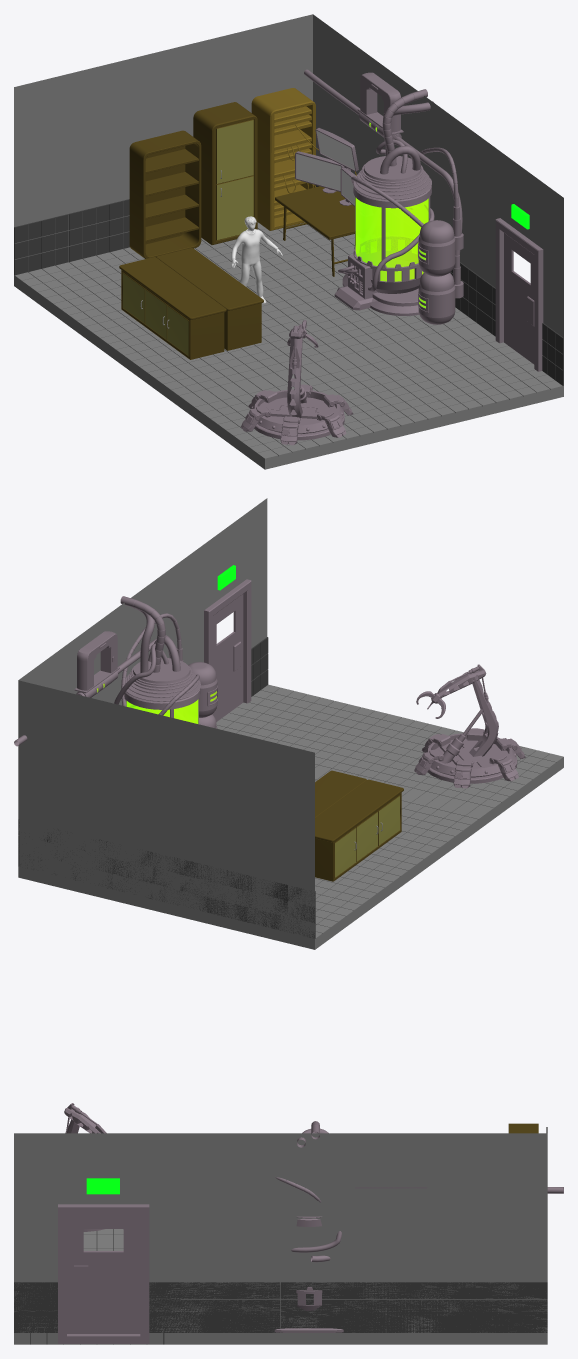
The model's file is Lab_renkli (1).fbx.
3 renders of one model, top to bottom at view 1: azimuth 30°, elevation 25°; view 2: azimuth 150°, elevation 25°; view 3: azimuth 270°, elevation 25°, orthographic. The views are drawn at different scales.
Visible parts, largest first — view 1: floor, Plane.001, Cylinder.013, Cube.016, Cube.002, Cube.015, Cube.009, floor.002, Cylinder.002, Cube.014, Cube.007, Cube.011 (+5 smaller); view 2: Plane.001, floor, Cylinder.013, Cylinder.002, Cube.015, floor.002, Cube.007, Cylinder, Cube.001, Cube.014, floor.001; view 3: Plane.001, floor.001, Cube.007, floor, Cube.001, Cylinder.013, Cylinder.002, Cube.012.
Boxes of the visible parts, <box> form: floor: <box>14,222,563,469</box>; Plane.001: <box>14,14,563,337</box>; Cylinder.013: <box>334,89,463,324</box>; Cube.016: <box>129,130,201,258</box>; Cube.002: <box>193,102,257,244</box>; Cube.015: <box>119,257,226,359</box>; Cube.009: <box>251,88,356,230</box>; floor.002: <box>14,199,129,275</box>; Cylinder.002: <box>241,320,353,445</box>; Cube.014: <box>156,248,263,350</box>; Cube.007: <box>504,233,534,364</box>; Cube.011: <box>295,128,358,206</box>; Plane.001: <box>18,498,314,938</box>; floor: <box>18,684,563,949</box>; Cylinder.013: <box>114,596,217,728</box>; Cylinder.002: <box>414,664,525,788</box>; Cube.015: <box>315,779,403,881</box>; floor.002: <box>20,829,315,938</box>; Cube.007: <box>213,594,243,721</box>; Cylinder: <box>14,631,170,746</box>; Cube.001: <box>204,579,251,714</box>; Cube.014: <box>315,770,366,817</box>; floor.001: <box>18,637,268,866</box>; Plane.001: <box>14,1133,547,1332</box>; floor.001: <box>14,1282,547,1332</box>; Cube.007: <box>67,1215,140,1333</box>; floor: <box>14,1229,547,1344</box>; Cube.001: <box>58,1204,149,1343</box>; Cylinder.013: <box>274,1121,343,1332</box>; Cylinder.002: <box>64,1103,106,1231</box>; Cube.012: <box>86,1178,119,1194</box>.
Bounding box in the file's own units: 510 × 324 × 749.
